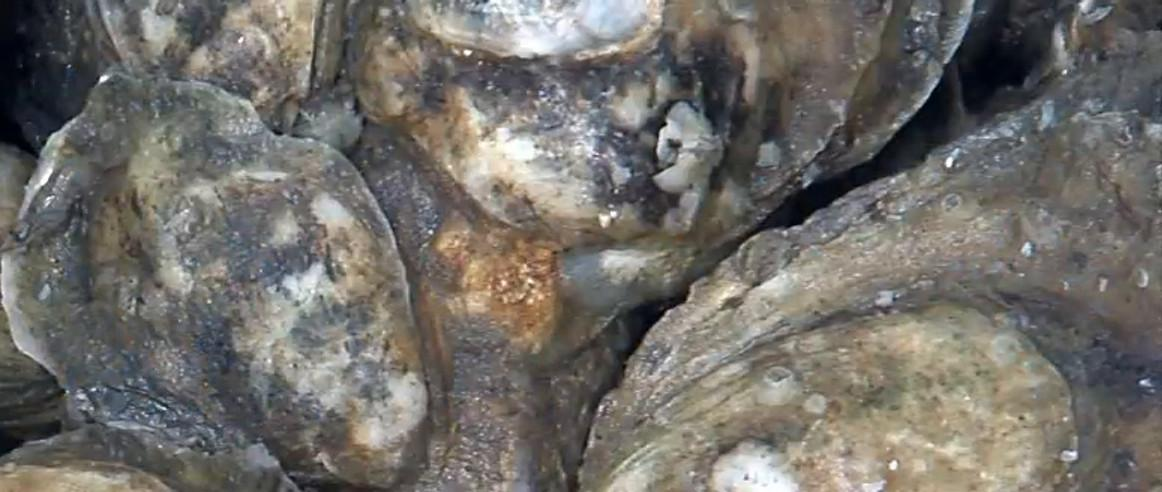Oyster- Indeterminate: (0, 72, 434, 492), (87, 0, 351, 128)
Oyster-Closed: (577, 29, 1162, 492), (343, 118, 796, 492), (348, 0, 980, 254), (0, 424, 316, 492), (0, 141, 68, 436), (0, 0, 109, 150)
